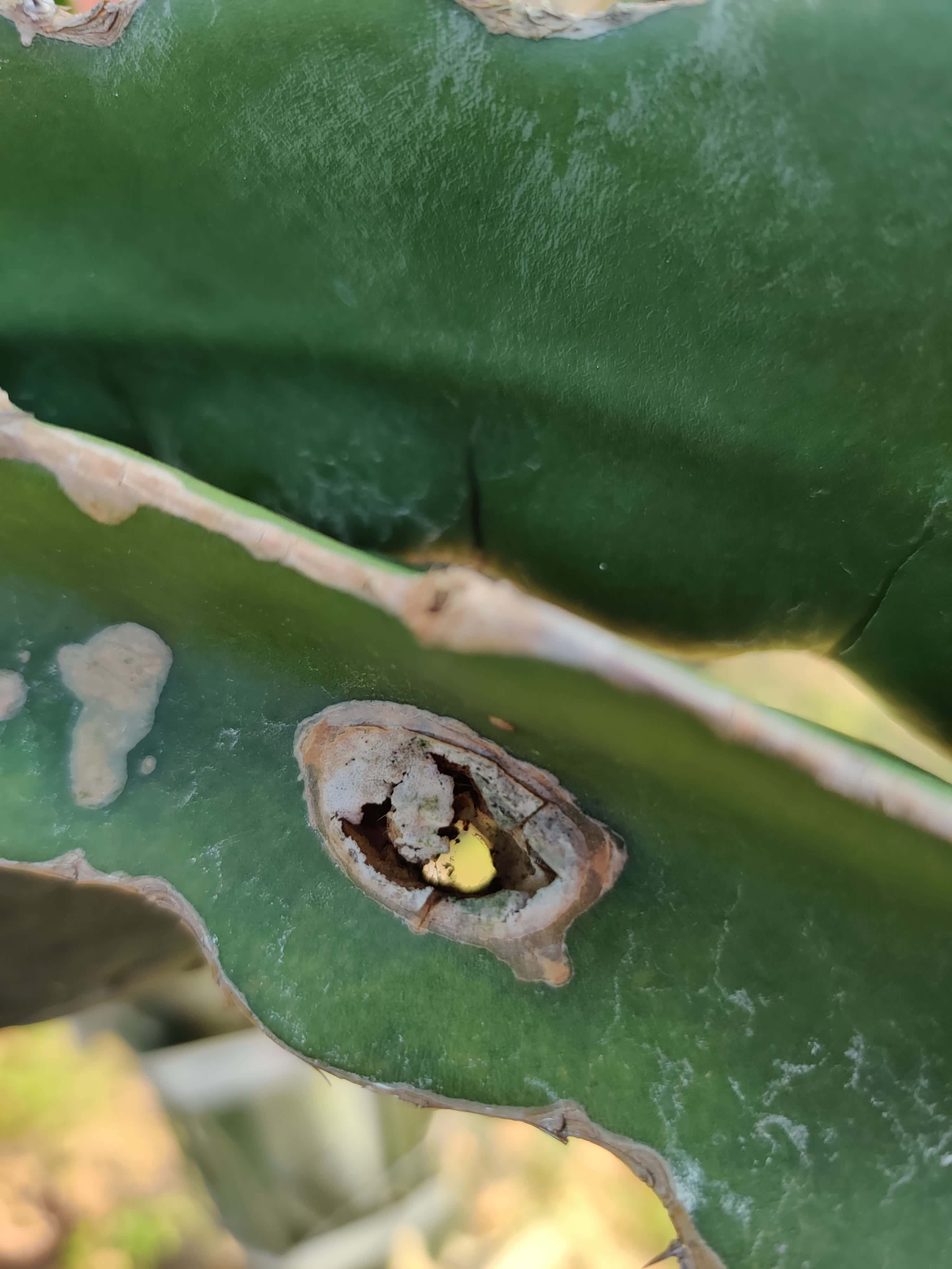stemcanker: (276, 690, 631, 994)
